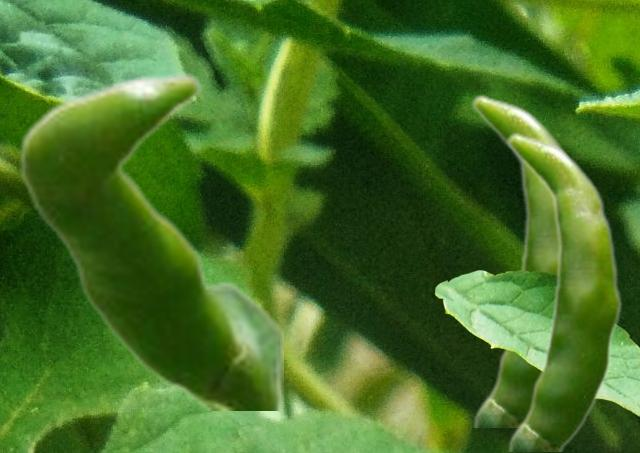green_chili: (18, 72, 282, 409), (505, 131, 622, 450), (470, 93, 570, 426)
